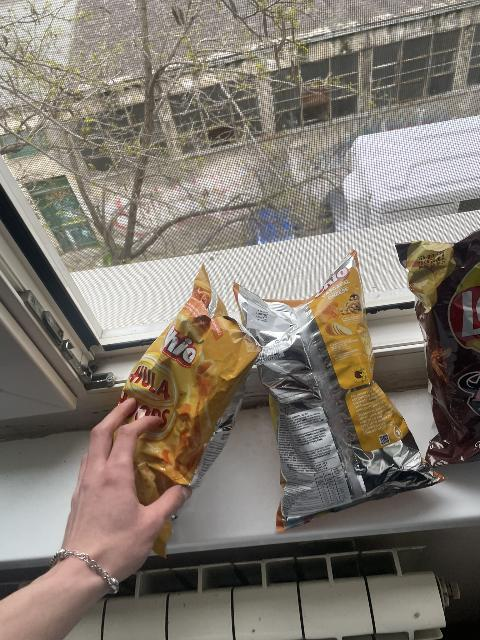Chio Cascaval 125g: (230, 246, 439, 539)
Chio Hula Hoops Cheese 70g: (114, 271, 261, 551)
Lays Beef Grilled Ribs 125g: (392, 229, 480, 470)
